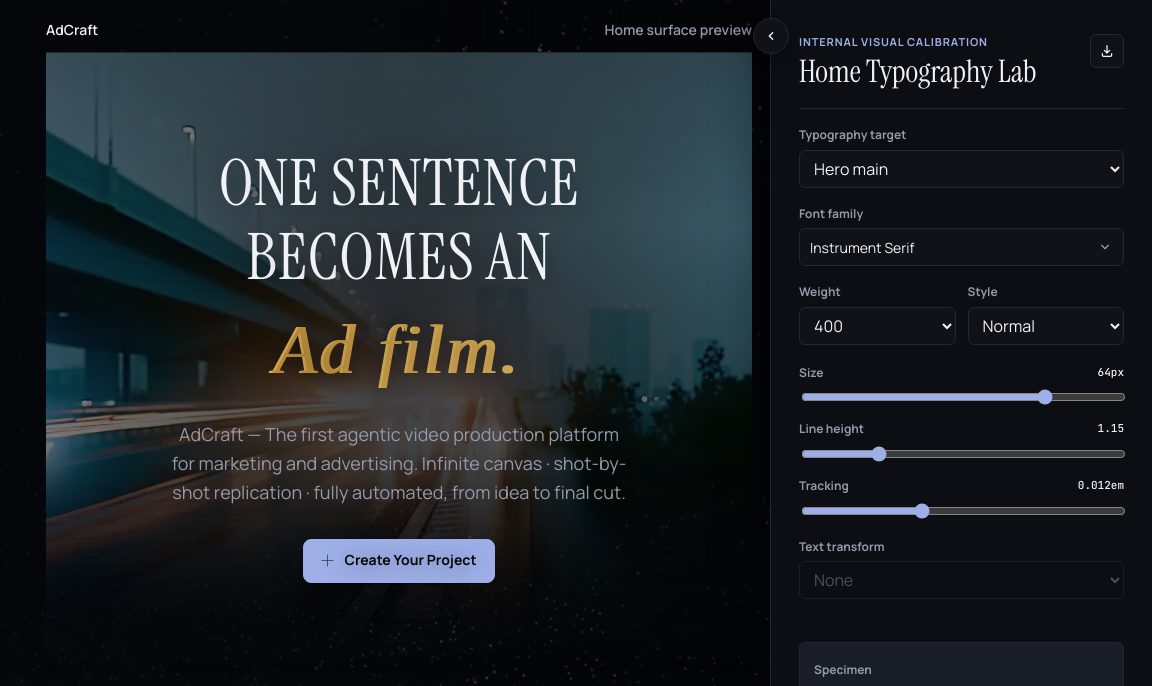
Scenario: HomeTypographyLabPage › shows a lightweight error when configuration export fails
Click the button named "Export configuration".
click(1107, 51)  # box [1090,34,1124,68]
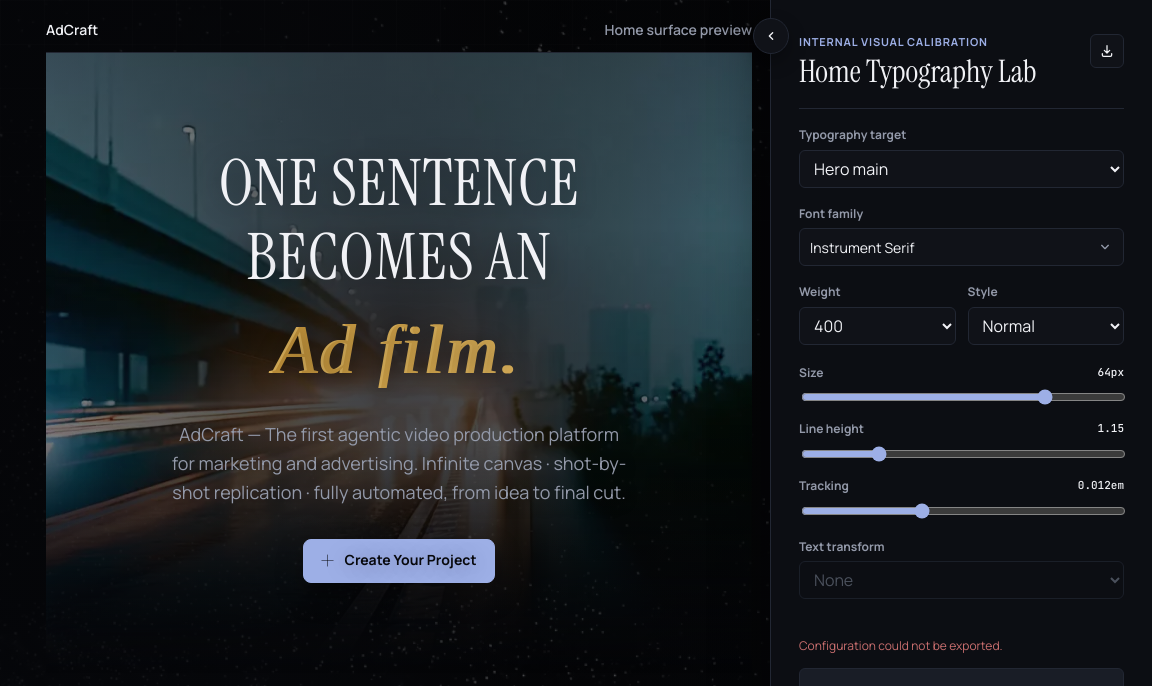
Expected: the text "Configuration could not be exported." is shown, [799,637,1002,654]
